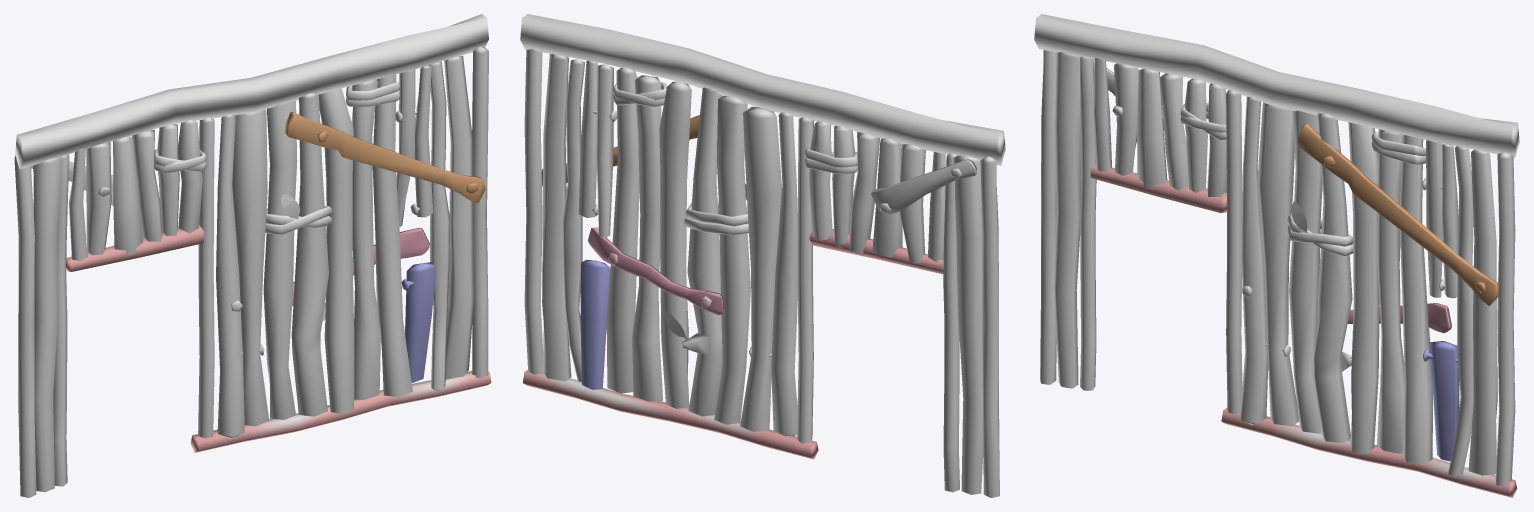
File: PBW_W1_DoorSide.glb
The picture shows the model from 3 angles, left to right: view 1: azimuth 30°, elevation 25°; view 2: azimuth 150°, elevation 25°; view 3: azimuth 330°, elevation 25°; orthographic projection.
Visible parts, largest first — view 1: PBW_W1_DoorSide; view 2: PBW_W1_DoorSide; view 3: PBW_W1_DoorSide.
Part boxes in pixels (x1,y1,x2,y2): PBW_W1_DoorSide: [14, 14, 491, 497]; PBW_W1_DoorSide: [520, 14, 1005, 497]; PBW_W1_DoorSide: [1034, 14, 1519, 497].
Bounding box in the file's own units: 5.12 × 3.88 × 0.4216.
